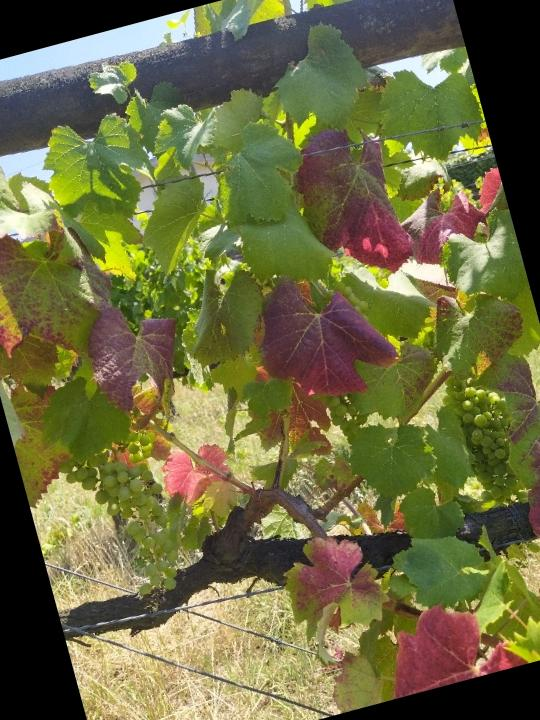grape: (55, 428, 203, 617), (438, 370, 536, 514)
